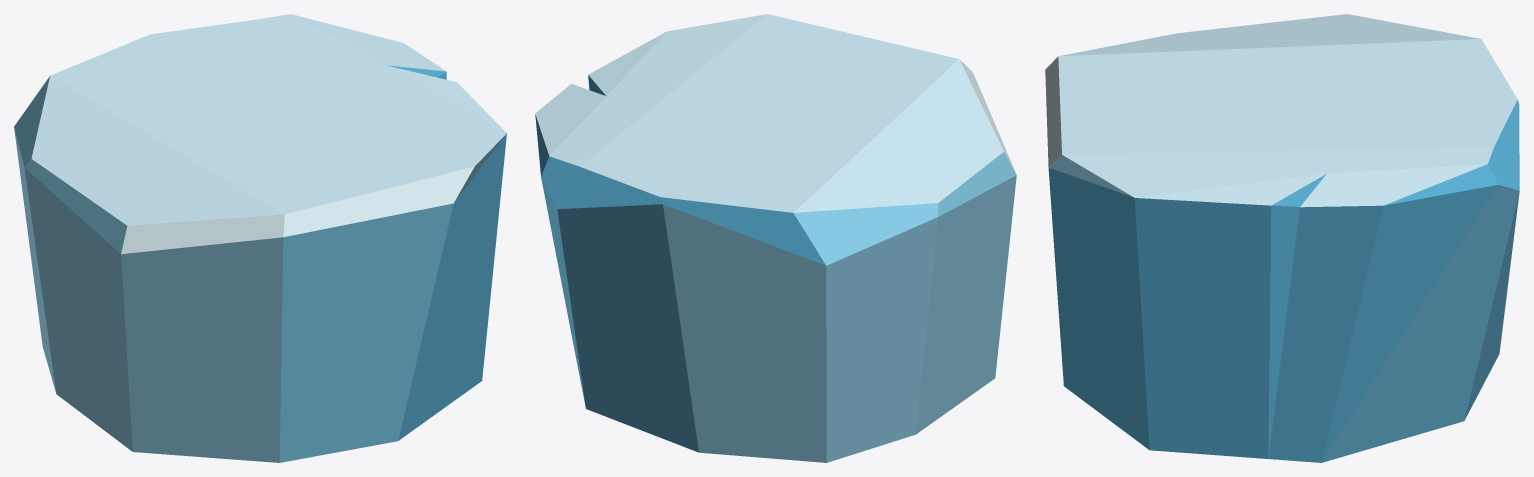
The model's file is stone_002.fbx.
3 views of the same model, side by side, from view 1: azimuth 30°, elevation 25°; view 2: azimuth 150°, elevation 25°; view 3: azimuth 270°, elevation 25° (orthographic). The views are drawn at different scales.
Visible parts, largest first — view 1: stone_002; view 2: stone_002; view 3: stone_002.
Boxes of the visible parts, <box> form: stone_002: <box>14,14,506,462</box>; stone_002: <box>535,14,1016,462</box>; stone_002: <box>1045,14,1519,462</box>.
Bounding box in the file's own units: 305 × 189 × 301.
